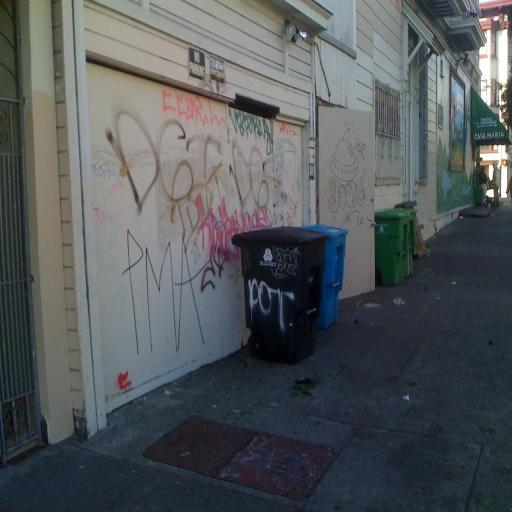trash-can: (234, 218, 332, 366)
